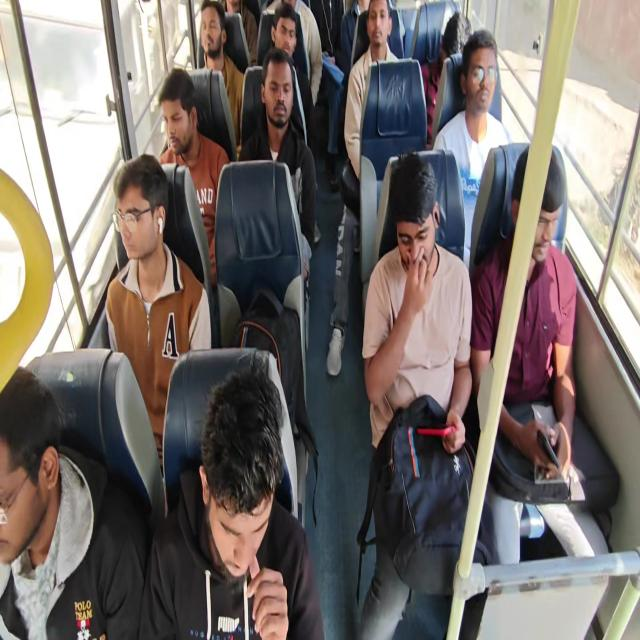person: (183, 420, 303, 602), (0, 363, 84, 620), (110, 152, 170, 308), (502, 140, 559, 289), (117, 68, 208, 155), (401, 163, 446, 305), (301, 0, 359, 82), (180, 6, 228, 67), (250, 69, 285, 145), (462, 28, 496, 102), (427, 14, 465, 62), (268, 8, 293, 62), (350, 0, 375, 30), (222, 0, 242, 34)
